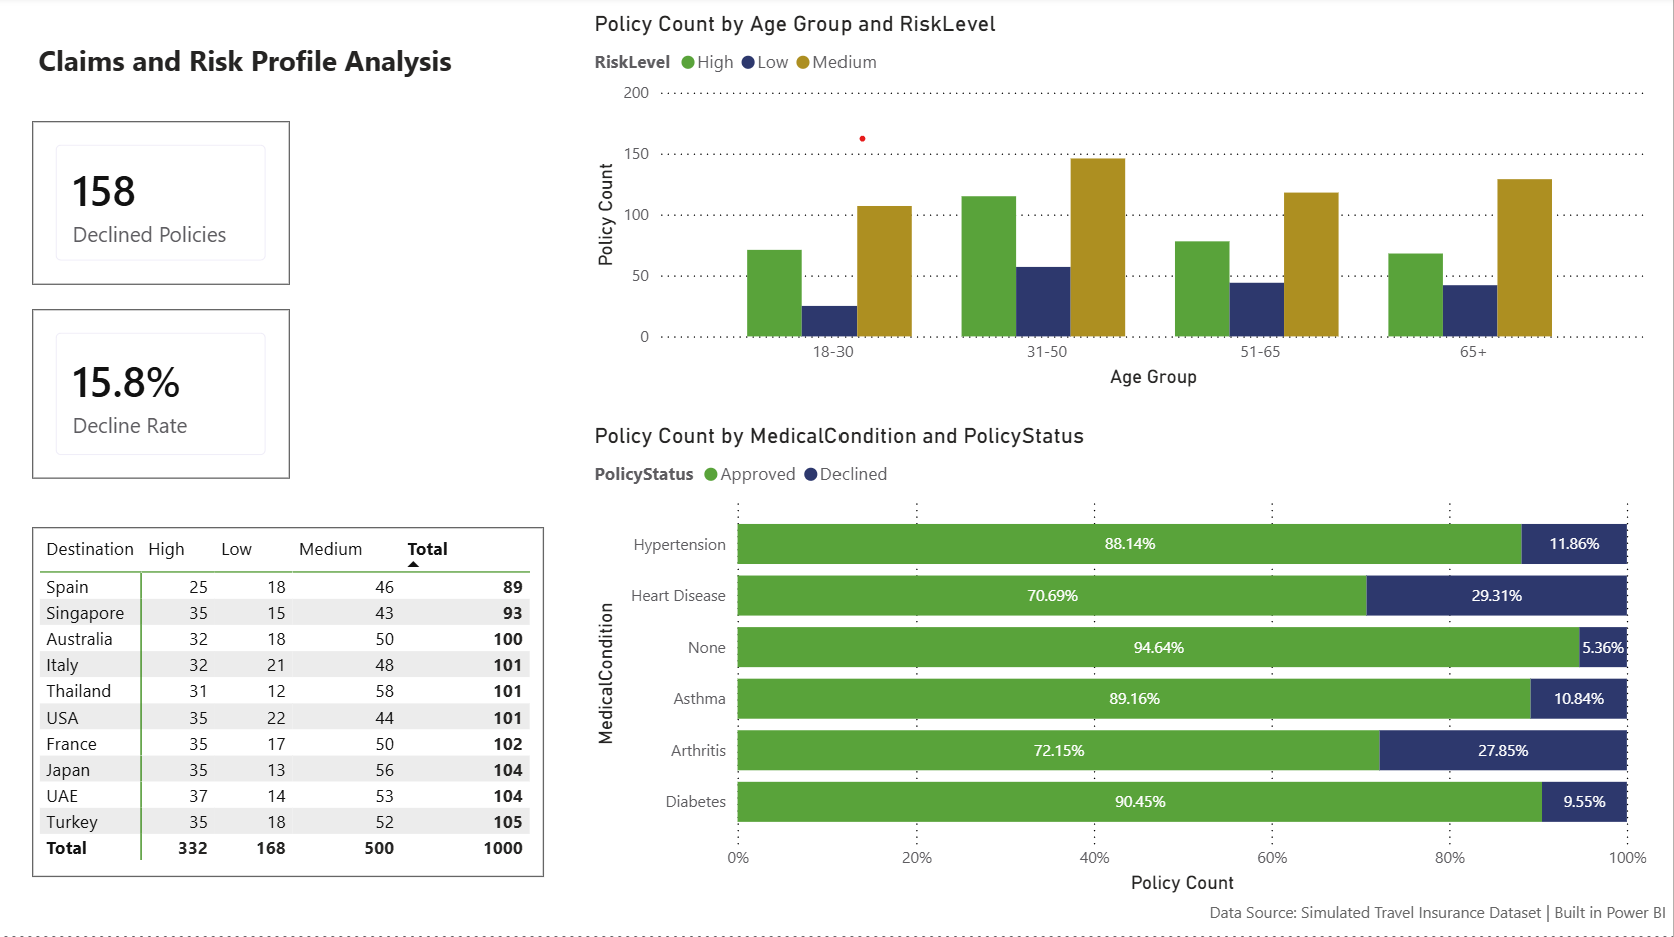

Layout of this report page (visuals, bound fields, positions):
{"tool":"powerbi","page":{"name":"Risk Analytics","canvas":[1280,720],"ordinal":1},"visuals":[{"type":"hundredPercentStackedBarChart","fields":{"Category":["Policies.MedicalCondition"],"Series":["Policies.PolicyStatus"],"Y":["Policies.Policy Count"]},"box":[450.1,327.7,814.5,364.4],"z":0},{"type":"clusteredColumnChart","fields":{"Y":["Policies.Policy Count"],"Series":["Policies.RiskLevel"],"Category":["Policies.Age Group"]},"box":[450.1,12.2,813,292.4],"z":1000},{"type":"pivotTable","fields":{"Rows":["Policies.Destination"],"Columns":["Policies.RiskLevel"],"Values":["Policies.Policy Count"]},"box":[24.5,407.3,392,267.9],"z":2000},{"type":"cardVisual","fields":{"Data":["Policies.Declined Policies"]},"box":[24.5,96.5,197.5,125.6],"z":3000},{"type":"textbox","box":[24.5,12.2,358.3,84.2],"z":4000},{"type":"cardVisual","fields":{"Data":["Policies.Decline Ratee"]},"box":[24.5,240.4,197.5,130.1],"z":5000},{"type":"textbox","box":[920.2,687.5,359.8,32.2],"z":6000}]}

Visuals, with their boxes in screenshot pixels (x1, y1, x2, y2), scaled from the page's 1280x720 canvas onto the 1674x937 screenshot:
hundredPercentStackedBarChart - Policies.MedicalCondition x Policies.PolicyStatus: [589,426,1654,901]
clusteredColumnChart - Policies.Policy Count x Policies.RiskLevel: [589,16,1652,396]
pivotTable - Policies.Destination x Policies.RiskLevel: [32,530,545,879]
cardVisual - Policies.Declined Policies: [32,126,290,289]
textbox: [32,16,501,125]
cardVisual - Policies.Decline Ratee: [32,313,290,482]
textbox: [1203,895,1673,936]
